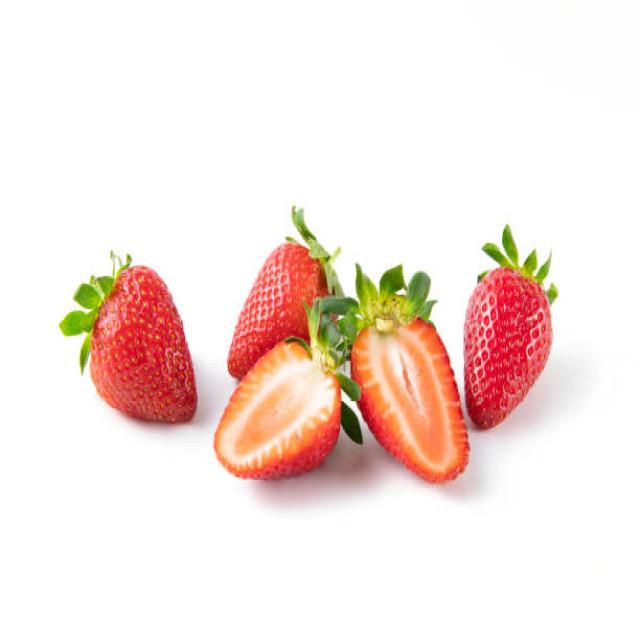Healthy Fruit: (89, 263, 198, 424), (226, 241, 333, 379), (463, 267, 553, 431)
